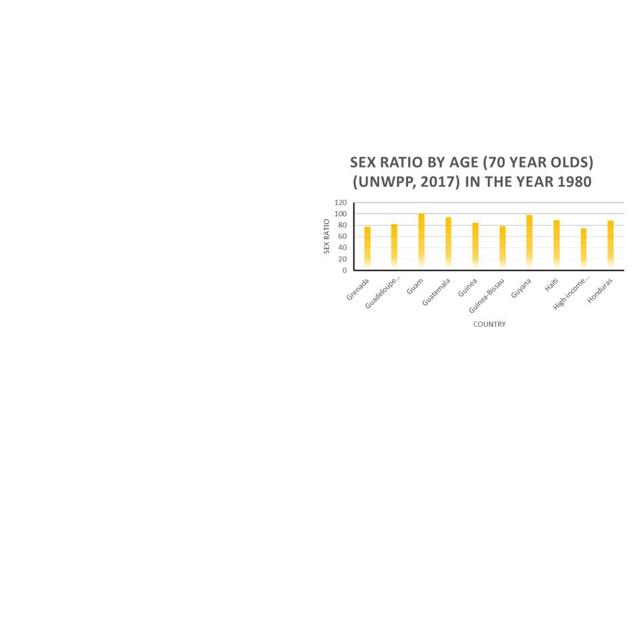Graph: (315, 150, 631, 331)
